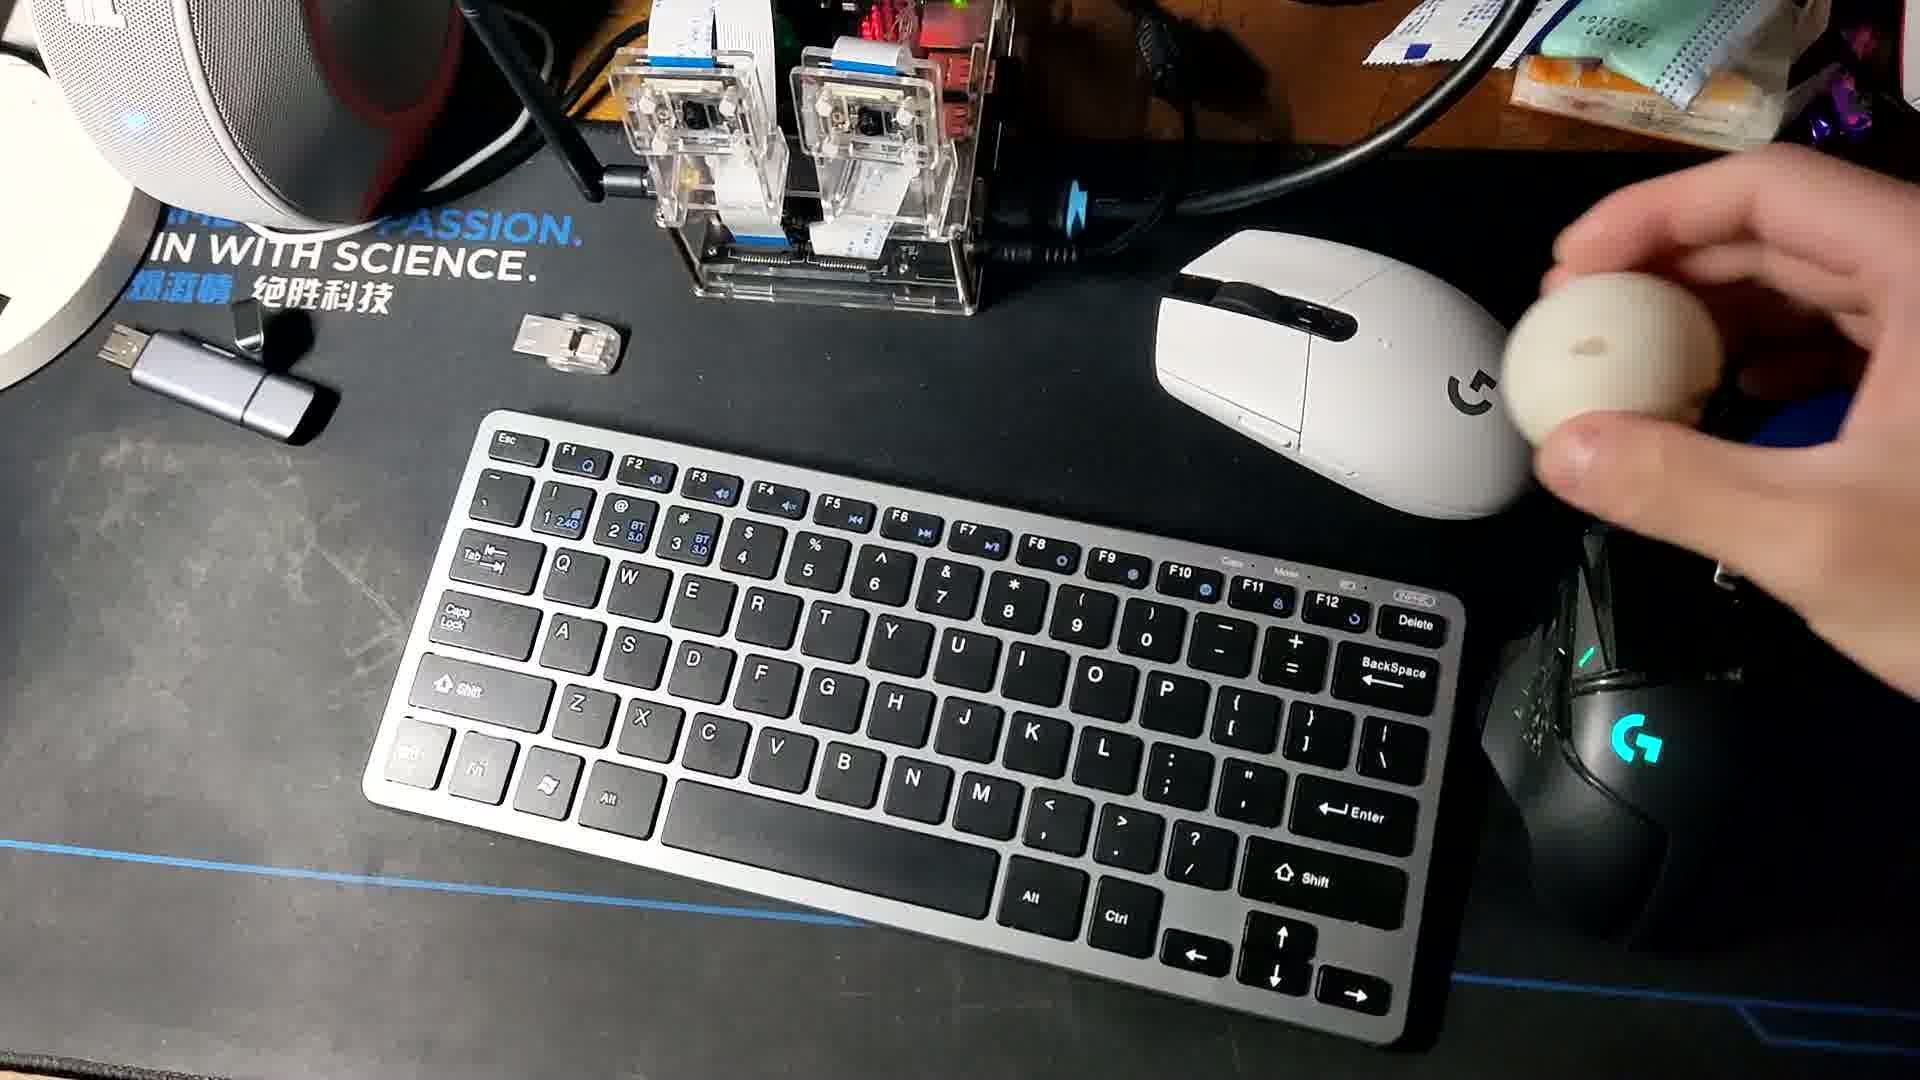Ball: (1497, 272, 1721, 483)
